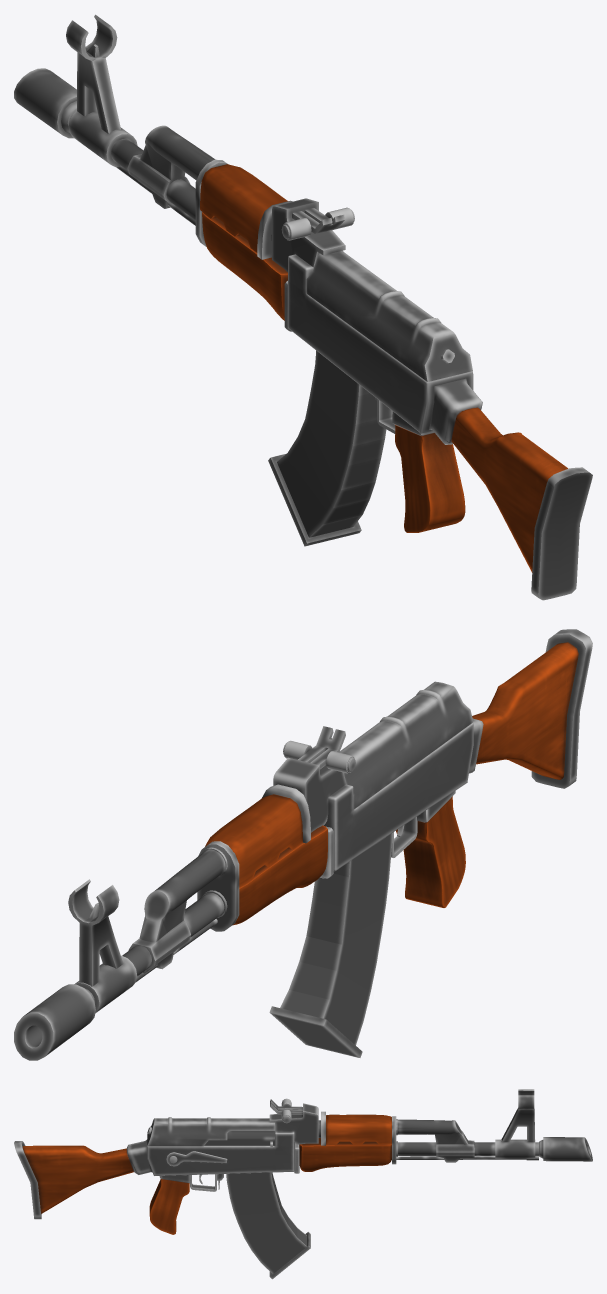
Rendered from AK47 stylized.fbx.
3 views of the same model, one above another, from view 1: azimuth 30°, elevation 25°; view 2: azimuth 150°, elevation 25°; view 3: azimuth 270°, elevation 25° (orthographic). The views are drawn at different scales.
Visible parts, largest first — view 1: Cube:006, Plane, Cube:004, Cube:007, Circle:022, Cube:013, Cube:015, Circle:026, Cube:012, Cube:001, Circle:002, Circle; view 2: Cube:006, Plane, Cube:004, Circle:022, Cube:007, Circle:026, Cube:013, Cube:012, Cube:015, Cube:001, Circle:001, Circle:002 (+4 smaller); view 3: Cube:006, Plane, Cube:004, Cube:012, Circle:022, Cube:013, Circle:026, Cube:007, Cube:001, Cube:015, Cube:010, Circle:002 (+2 smaller).
Part boxes in pixels (bbox=[...]): Cube:006: bbox=[288, 254, 592, 600]; Plane: bbox=[268, 350, 386, 546]; Cube:004: bbox=[306, 251, 472, 381]; Cube:007: bbox=[392, 411, 465, 532]; Circle:022: bbox=[14, 68, 195, 220]; Cube:013: bbox=[200, 164, 287, 252]; Cube:015: bbox=[66, 14, 120, 134]; Circle:026: bbox=[127, 125, 215, 208]; Cube:012: bbox=[202, 212, 287, 320]; Cube:001: bbox=[272, 198, 345, 272]; Circle:002: bbox=[68, 110, 137, 167]; Circle: bbox=[281, 207, 354, 240]; Cube:006: bbox=[324, 629, 592, 871]; Plane: bbox=[269, 833, 392, 1057]; Cube:004: bbox=[339, 681, 473, 809]; Circle:022: bbox=[14, 890, 227, 1060]; Cube:007: bbox=[396, 791, 465, 907]; Circle:026: bbox=[128, 847, 227, 973]; Cube:013: bbox=[205, 794, 302, 887]; Cube:012: bbox=[233, 825, 327, 925]; Cube:015: bbox=[68, 879, 123, 986]; Cube:001: bbox=[273, 757, 346, 832]; Circle:001: bbox=[197, 841, 239, 931]; Circle:002: bbox=[74, 955, 137, 1013]; Cube:006: bbox=[14, 1131, 294, 1219]; Plane: bbox=[226, 1172, 310, 1279]; Cube:004: bbox=[147, 1117, 274, 1146]; Cube:012: bbox=[299, 1138, 391, 1171]; Circle:022: bbox=[396, 1137, 592, 1161]; Cube:013: bbox=[326, 1114, 391, 1144]; Circle:026: bbox=[396, 1119, 474, 1162]; Cube:007: bbox=[149, 1175, 190, 1234]; Cube:001: bbox=[269, 1103, 318, 1144]; Cube:015: bbox=[501, 1089, 534, 1142]; Cube:010: bbox=[204, 1131, 274, 1148]; Circle:002: bbox=[495, 1139, 535, 1158].
Bounding box in the file's own units: 24.27 × 117 × 340.
Materials: 1 (1 with a texture image).
